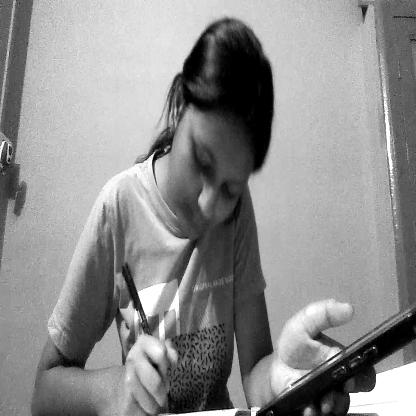Distracted: (161, 17, 279, 260)
